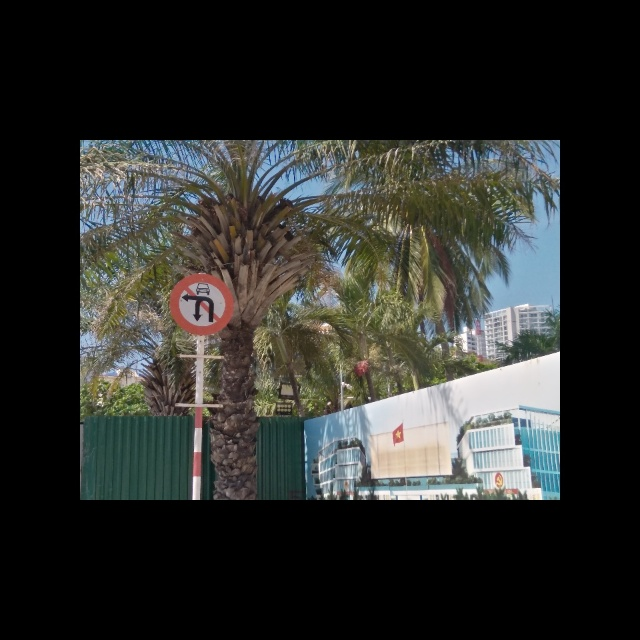Cấm xe ô tô quay đầu và rẽ trái: (166, 273, 236, 336)
